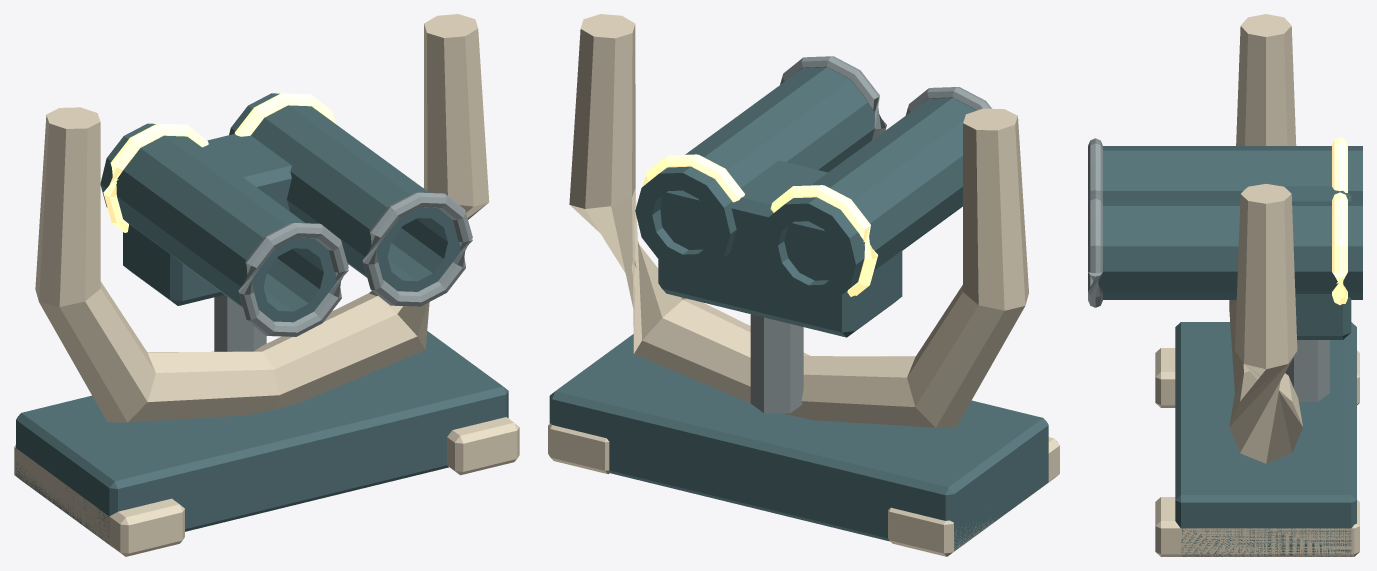
Rendered from marker_weapon.glb.
3 renders of one model, left to right at view 1: azimuth 30°, elevation 25°; view 2: azimuth 150°, elevation 25°; view 3: azimuth 270°, elevation 25°, orthographic. The views are drawn at different scales.
Visible parts, largest first — view 1: marker_weapon_iron, marker_weapon_bone, marker_weapon_steel, marker_weapon_amber; view 2: marker_weapon_iron, marker_weapon_bone, marker_weapon_steel, marker_weapon_amber; view 3: marker_weapon_iron, marker_weapon_bone, marker_weapon_steel, marker_weapon_amber.
Boxes of the visible parts, x1,y1,x2,y2 form: marker_weapon_iron: [16, 93, 508, 546]; marker_weapon_bone: [14, 14, 519, 556]; marker_weapon_steel: [214, 192, 472, 351]; marker_weapon_amber: [103, 93, 335, 232]; marker_weapon_iron: [549, 67, 1048, 550]; marker_weapon_bone: [548, 14, 1059, 556]; marker_weapon_steel: [750, 56, 991, 413]; marker_weapon_amber: [642, 154, 877, 296]; marker_weapon_iron: [1098, 146, 1362, 556]; marker_weapon_bone: [1155, 14, 1359, 556]; marker_weapon_steel: [1088, 138, 1329, 401]; marker_weapon_amber: [1332, 137, 1347, 304].
Size of the model in its own units: 0.8279 by 0.7015 by 0.483.
